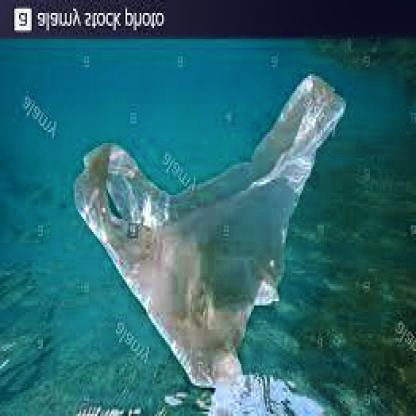pbag: (73, 71, 346, 416)
